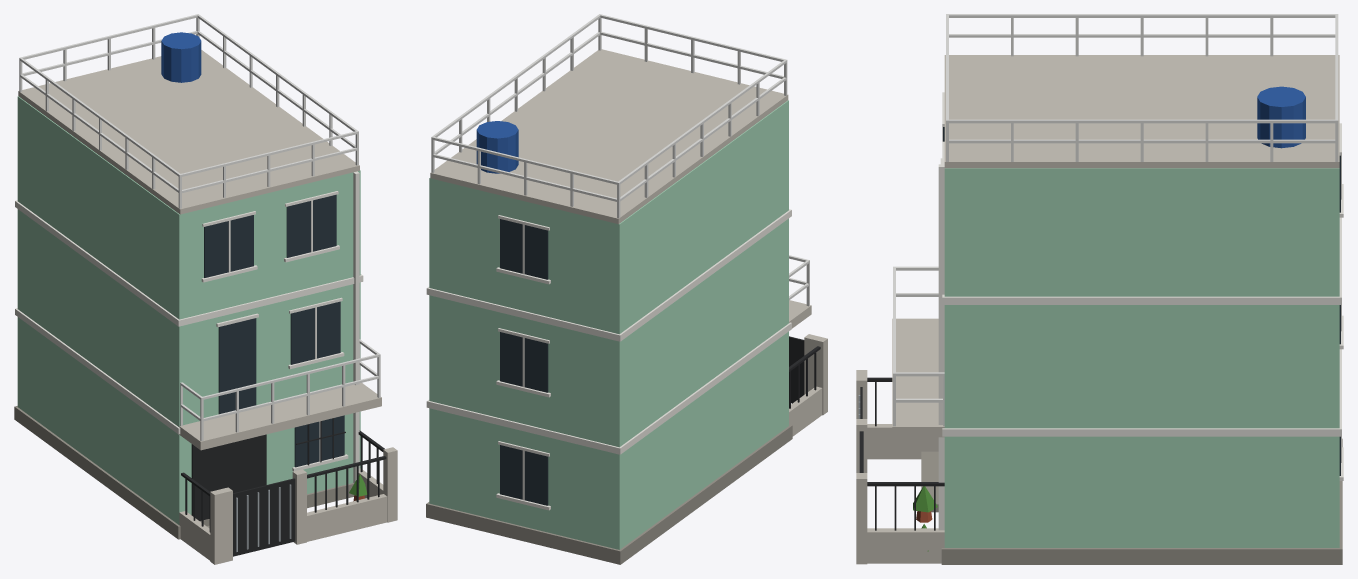
File: BAY_F_ThreeStorey_E.glb
3 views of the same model, side by side, from view 1: azimuth 30°, elevation 25°; view 2: azimuth 150°, elevation 25°; view 3: azimuth 270°, elevation 25° (orthographic). The views are drawn at different scales.
Visible parts, largest first — view 1: BAY_F_ThreeStorey_E; view 2: BAY_F_ThreeStorey_E; view 3: BAY_F_ThreeStorey_E.
Part boxes in pixels (box(x1,y1,x2,y2)): BAY_F_ThreeStorey_E: box(14, 14, 397, 564); BAY_F_ThreeStorey_E: box(426, 14, 827, 564); BAY_F_ThreeStorey_E: box(856, 14, 1343, 564).
Bounding box in the file's own units: 4.5 × 8.4 × 8.39.
Materials: 1 (1 with a texture image).
